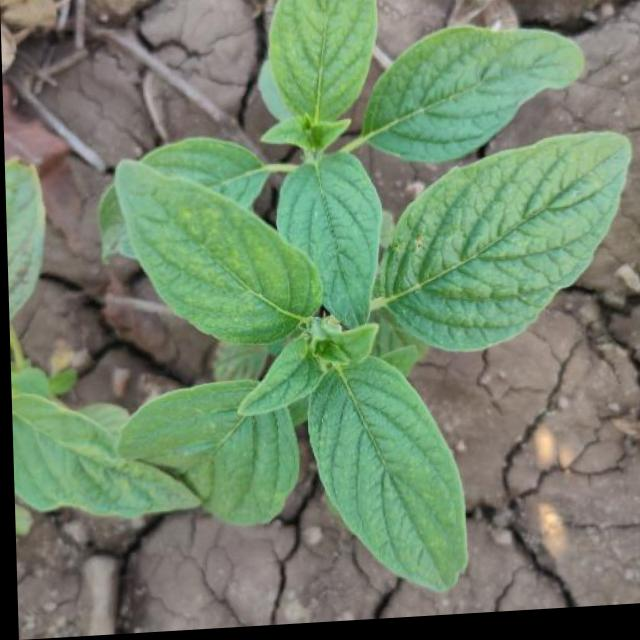crop: (1, 0, 640, 620)
